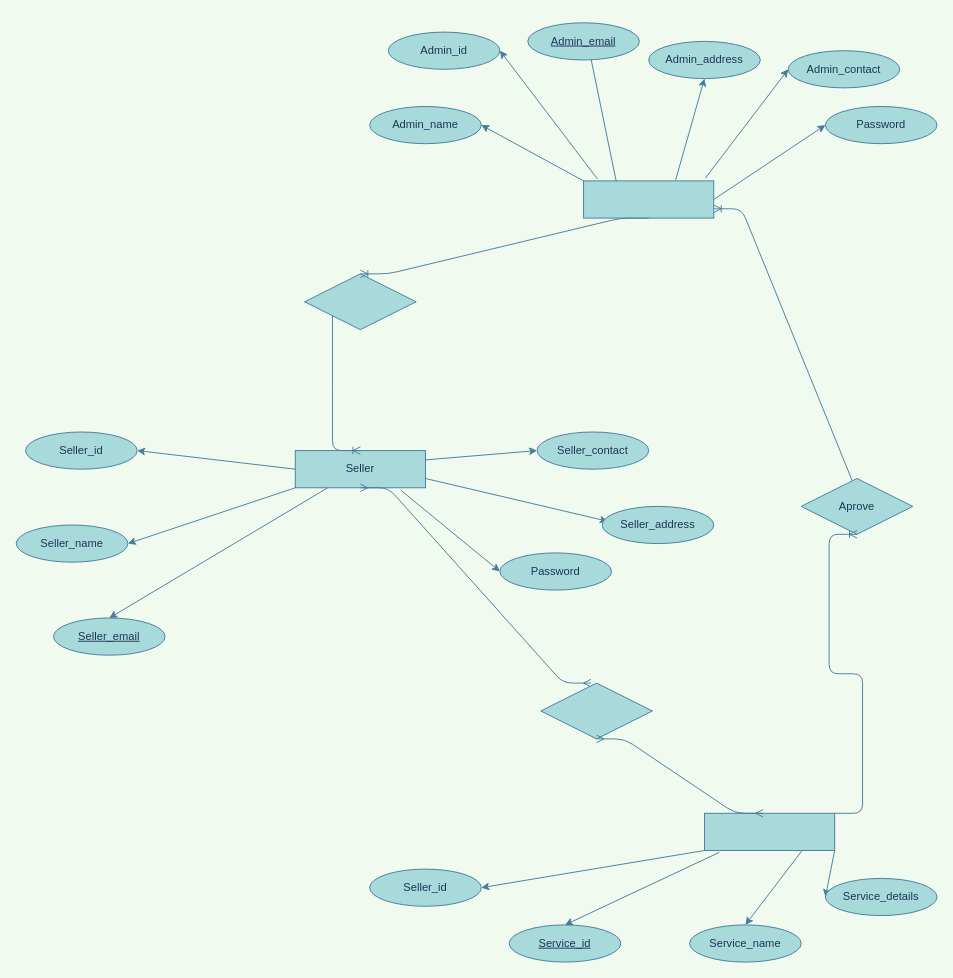
Image size: 953x978. Some labels were removed from this diagram. Here are the shapes that lost their labels. From the top down, the centre of each, then its label:
point 648,199: Admin
point 360,301: Add
point 596,710: Has
point 769,831: SellerAds
